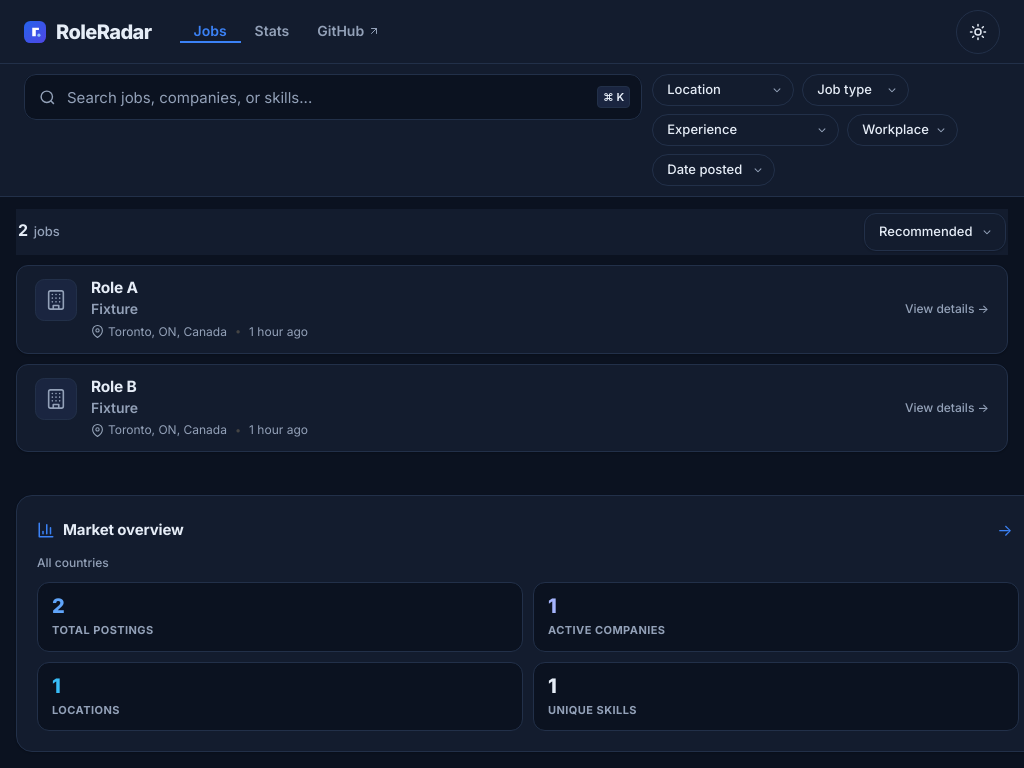
it: accessibility cleanup › applies a saved theme and lets the navbar toggle switch and remember it
Click the button named "Switch to light mode".
click(978, 32)  # box x1=956 y1=10 x2=1000 y2=54
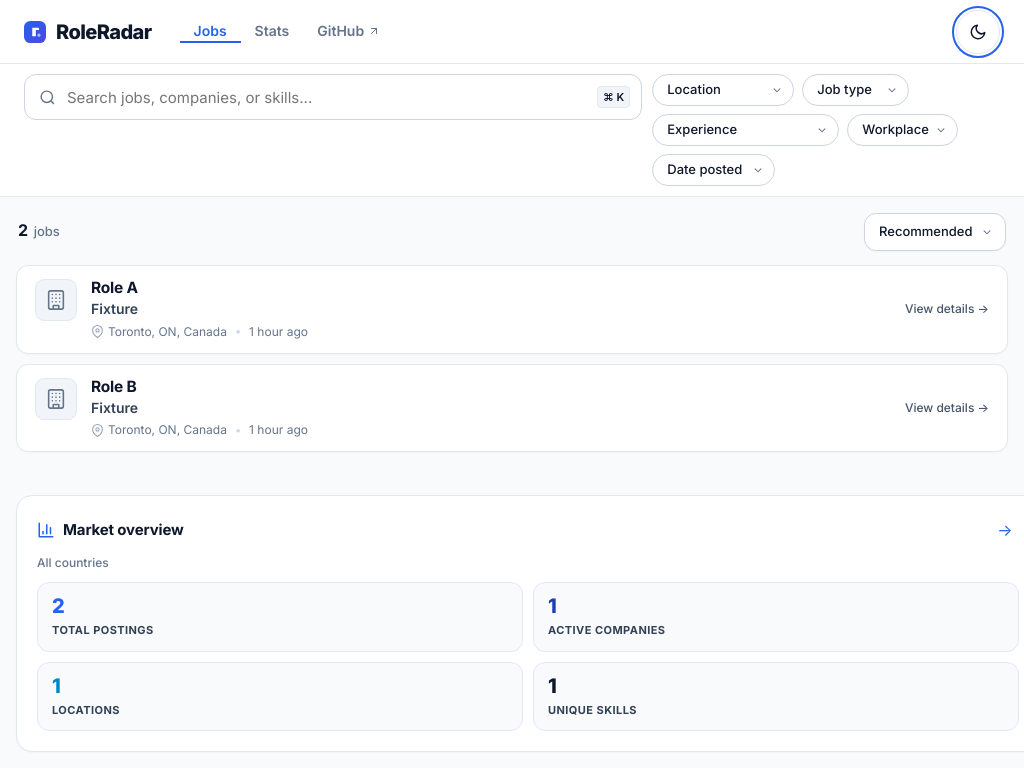
Result: the button named "Switch to dark mode" is shown at x1=956 y1=10 x2=1000 y2=54
